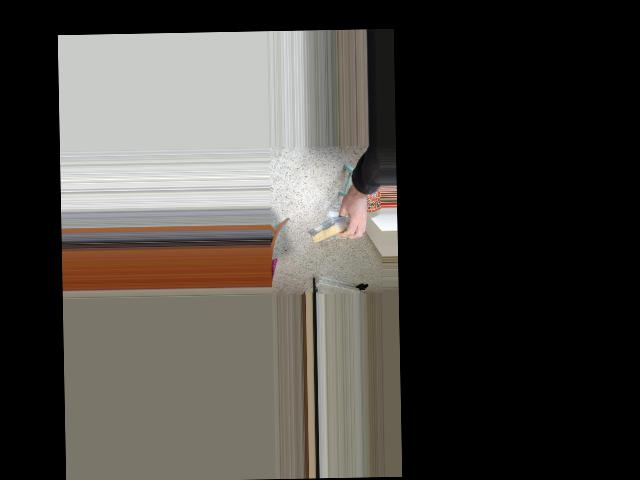cheese: (304, 210, 359, 247)
